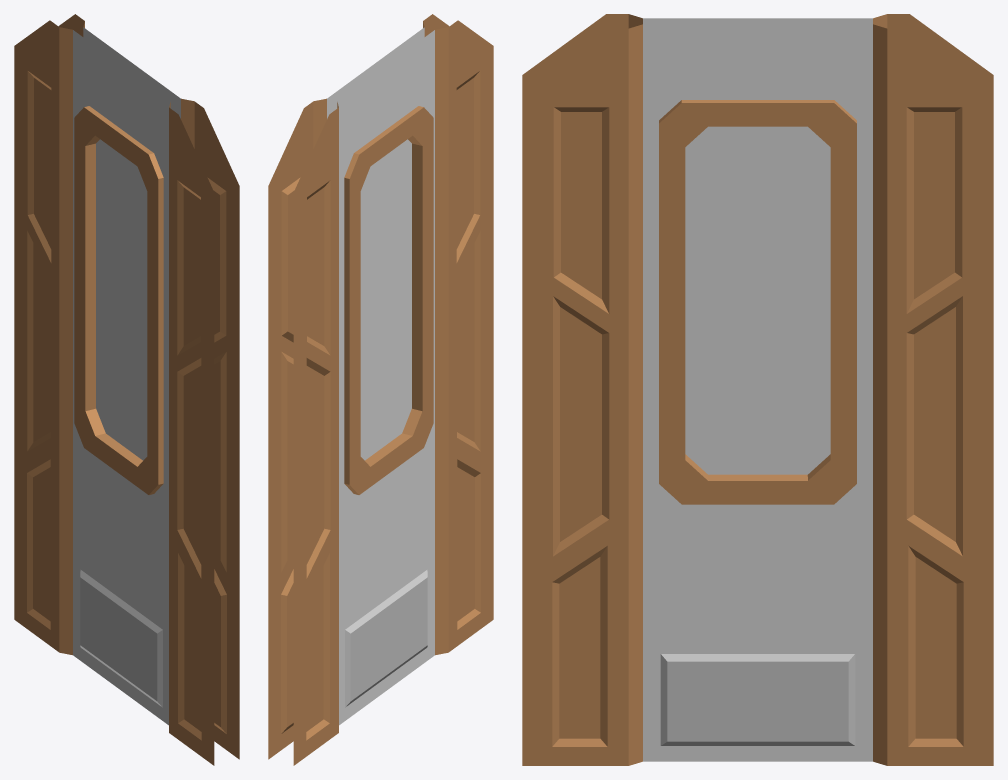
The model's file is door.fbx.
3 renders of one model, left to right at view 1: azimuth 30°, elevation 25°; view 2: azimuth 150°, elevation 25°; view 3: azimuth 270°, elevation 25°, orthographic. The views are drawn at different scales.
Parts seen in each view (by area): view 1: Door; view 2: Door; view 3: Door.
Boxes of the visible parts, x1,y1,x2,y2 form: Door: (14,14,239,765); Door: (268,14,493,765); Door: (522,14,993,765).
Size of the model in its own units: 9.37 by 128 by 220.
